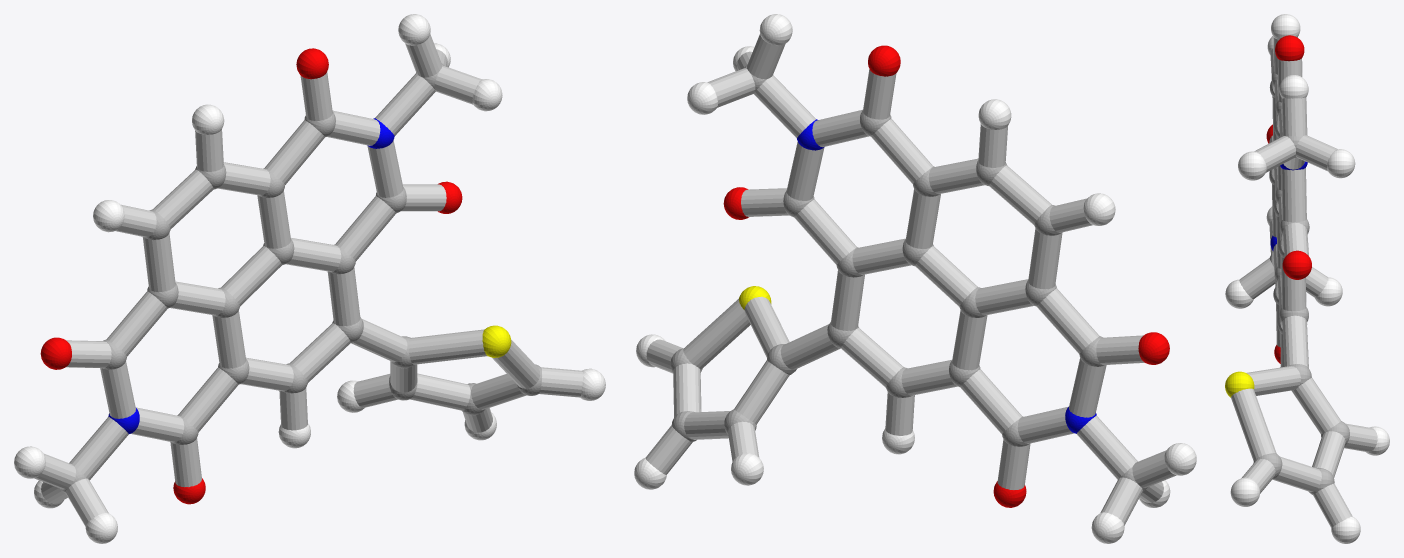
File: Dimethyl_Naphthalene_Dicarboximide_Phi_0_Theta_230_Thiophene.glb
The picture shows the model from 3 angles, left to right: view 1: azimuth 30°, elevation 25°; view 2: azimuth 150°, elevation 25°; view 3: azimuth 270°, elevation 25°; orthographic projection. The views are drawn at different scales.
Parts seen in each view (by area): view 1: grp14119, grp7241, grp1, grp12309, grp13757, grp11585; view 2: grp14119, grp7241, grp1, grp12309, grp11585; view 3: grp14119, grp7241, grp1, grp12309, grp13757.
Part boxes in pixels (bbox=[...]): grp14119: bbox=[34, 34, 583, 526]; grp7241: bbox=[14, 14, 605, 543]; grp1: bbox=[60, 63, 541, 493]; grp12309: bbox=[40, 48, 462, 504]; grp13757: bbox=[482, 325, 511, 357]; grp11585: bbox=[108, 118, 394, 433]; grp14119: bbox=[645, 34, 1176, 525]; grp7241: bbox=[634, 14, 1196, 543]; grp1: bbox=[670, 65, 1147, 491]; grp12309: bbox=[723, 45, 1169, 507]; grp11585: bbox=[797, 119, 1096, 433]; grp14119: bbox=[1231, 37, 1377, 527]; grp7241: bbox=[1225, 14, 1389, 543]; grp1: bbox=[1253, 71, 1349, 494]; grp12309: bbox=[1266, 35, 1311, 363]; grp13757: bbox=[1225, 371, 1254, 397].
Bounding box in the file's own units: 12.1 × 9.53 × 3.36.
